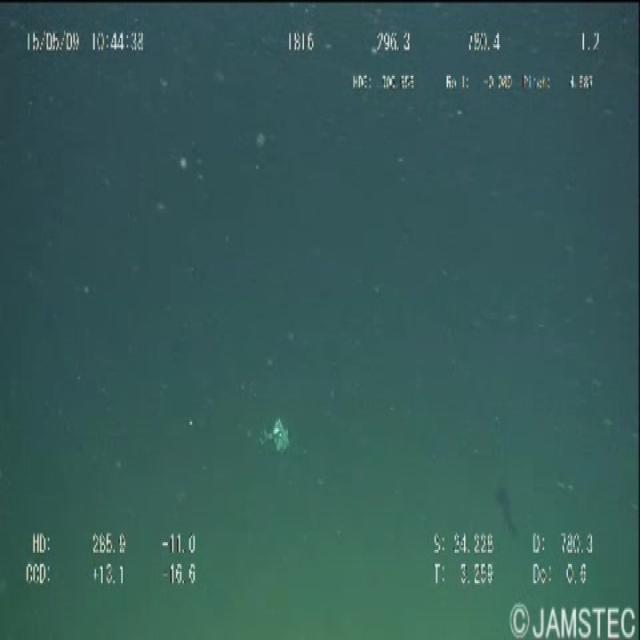Litter: (257, 406, 309, 486)
